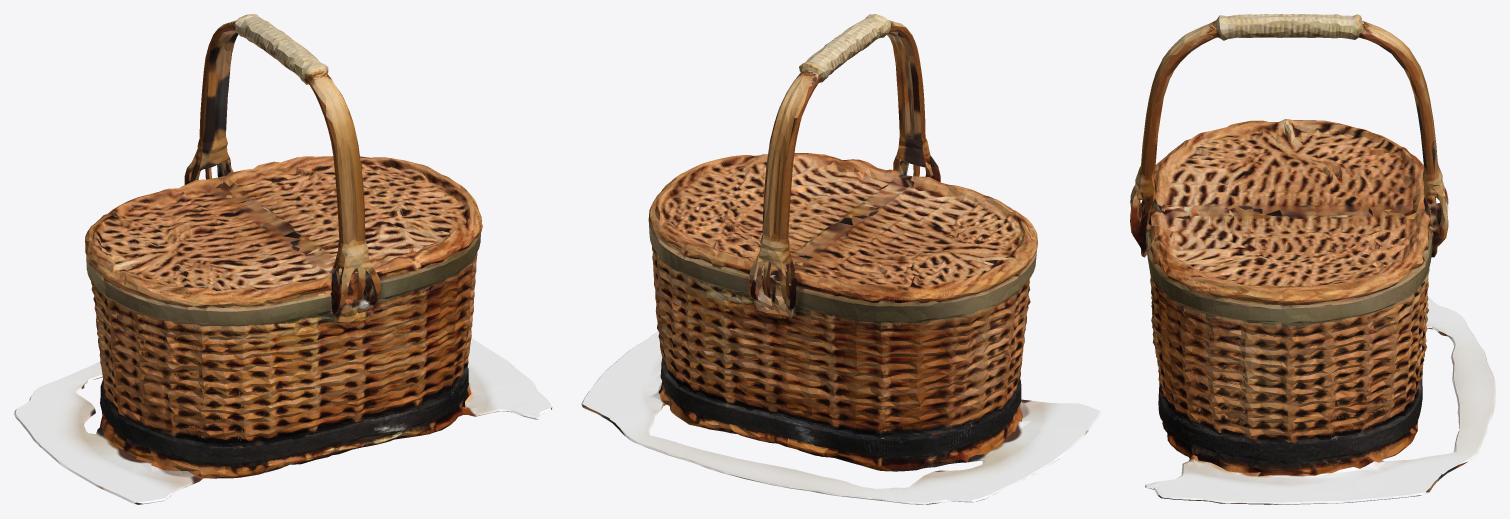
The model's file is traveler_env_coast_kudo_eel_basket_00001_.glb.
3 views of the same model, side by side, from view 1: azimuth 30°, elevation 25°; view 2: azimuth 150°, elevation 25°; view 3: azimuth 270°, elevation 25° (orthographic). The views are drawn at different scales.
Visible parts, largest first — view 1: temp_mesh.ply; view 2: temp_mesh.ply; view 3: temp_mesh.ply.
Boxes of the visible parts, x1,y1,x2,y2 form: temp_mesh.ply: (14, 14, 552, 504); temp_mesh.ply: (581, 14, 1101, 504); temp_mesh.ply: (1130, 14, 1495, 504).
Bounding box in the file's own units: 1.98 × 1.61 × 1.4.
Materials: 1 (1 with a texture image).
